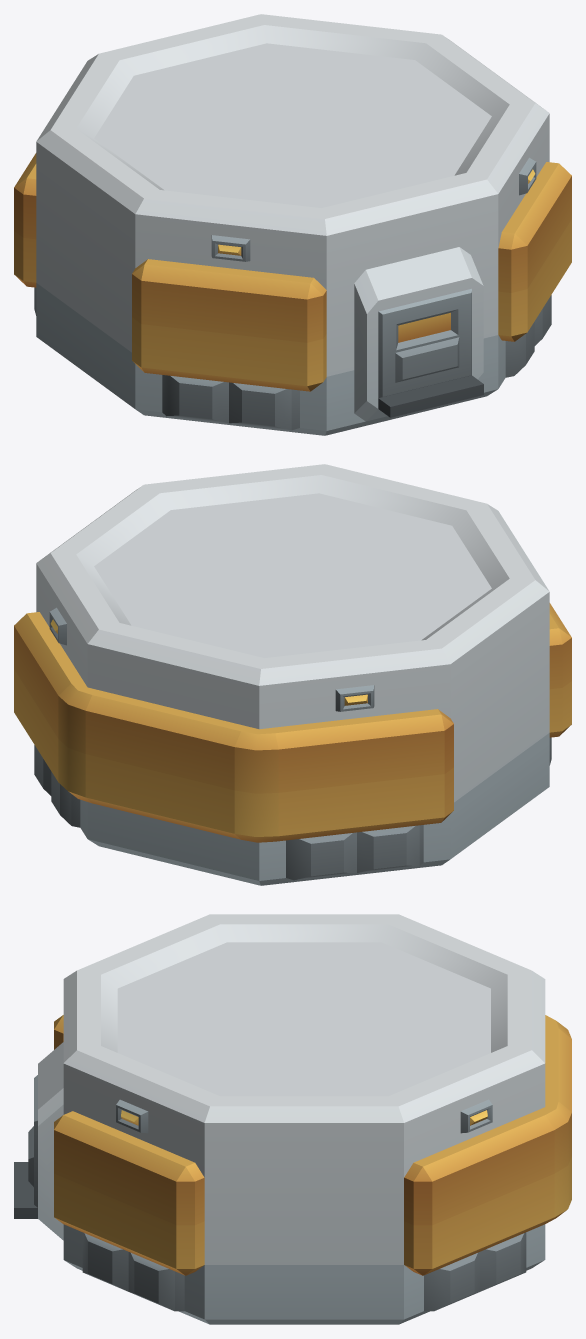
The model's file is Dormitory1.glb.
3 renders of one model, top to bottom at view 1: azimuth 30°, elevation 25°; view 2: azimuth 150°, elevation 25°; view 3: azimuth 270°, elevation 25°, orthographic.
Parts seen in each view (by area): view 1: basemodule_B_Cylinder.2716; view 2: basemodule_B_Cylinder.2716; view 3: basemodule_B_Cylinder.2716.
Boxes of the visible parts, x1,y1,x2,y2 form: basemodule_B_Cylinder.2716: [14, 14, 571, 435]; basemodule_B_Cylinder.2716: [14, 464, 571, 885]; basemodule_B_Cylinder.2716: [14, 914, 571, 1324].
Bounding box in the file's own units: 2.08 × 1 × 2.32.
Materials: 1 (1 with a texture image).
